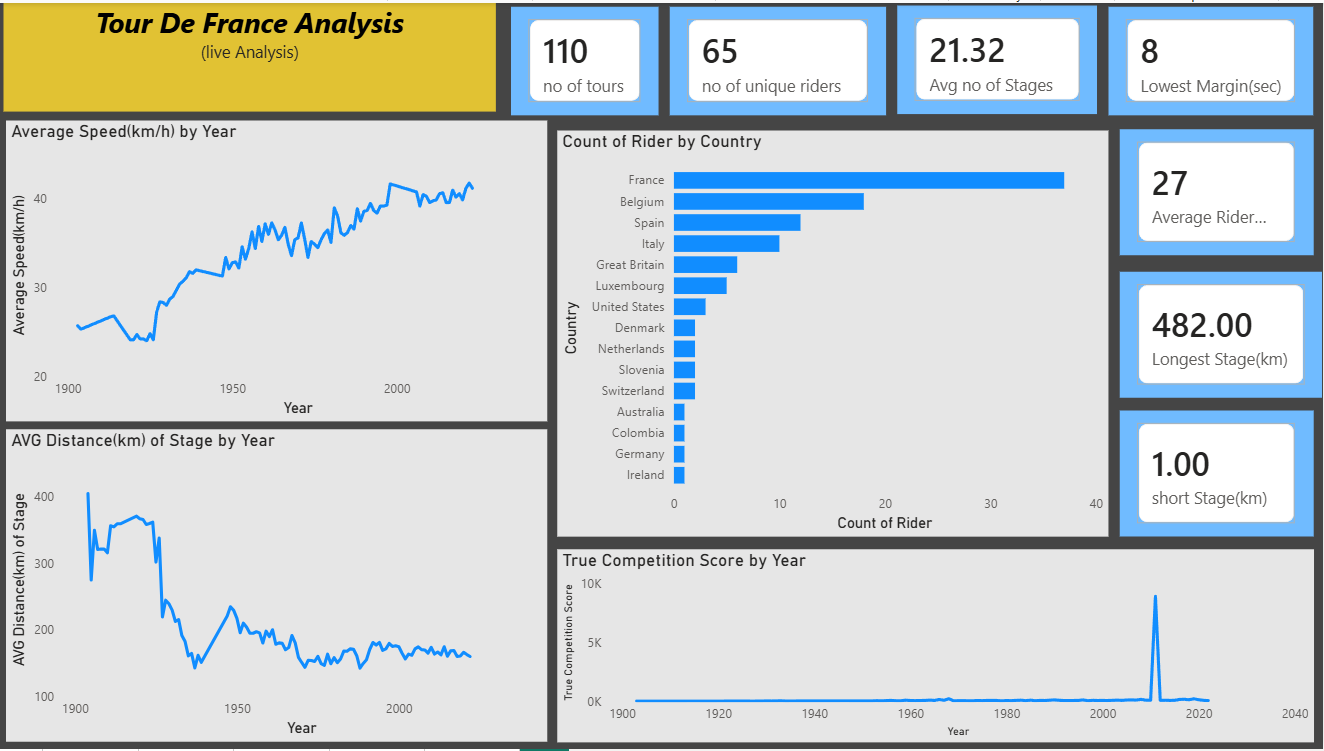

This screenshot's page, from the dashboard's own definition file:
{"tool":"powerbi","page":{"name":"Page 1","canvas":[1280,720],"ordinal":0},"visuals":[{"type":"cardVisual","title":"No Of Tours","fields":{"Data":["CountNonNull(Cleaned_Tours.Year)"]},"box":[497.1,3.6,142.4,105],"z":0},{"type":"cardVisual","title":"NO Of Unique Riders","fields":{"Data":["Count(Cleaned_Winners.Rider)"]},"box":[650.3,3.6,208.7,105],"z":1000},{"type":"cardVisual","title":"Avg Age","fields":{"Data":["Cleaned_Winners.Average Rider Age"]},"box":[1084.6,121.9,187,121.9],"z":2000},{"type":"cardVisual","title":"Average No Of Stages","fields":{"Data":["Avg(Cleaned_Tours.Stages)"]},"box":[869.8,2.4,193,105],"z":3000},{"type":"lineChart","fields":{"Category":["Cleaned_Winners.Year"],"Y":["Max(Cleaned_Winners.AvgSpeed(km/h))"]},"box":[9.7,113.4,522.4,290.8],"z":4000},{"type":"lineChart","fields":{"Y":["Avg(Cleaned_Stages.Distance(km))"],"Category":["Cleaned_Stages.Year"]},"box":[9.7,411.4,522.4,301.6],"z":5000},{"type":"barChart","fields":{"Category":["Cleaned_Winners.Country"],"Y":["CountNonNull(Cleaned_Winners.Rider)"]},"box":[541.7,123.1,532,392.1],"z":6000},{"type":"lineChart","fields":{"Y":["Cleaned_Finishers.Competition Score (Per KM)"],"Category":["Cleaned_Finishers.Year"]},"box":[542,526.9,730,186.6],"z":7000},{"type":"cardVisual","fields":{"Data":["Cleaned_Stages.Longest Stage Name"]},"box":[1084.6,259.4,195.4,121.9],"z":8000},{"type":"cardVisual","fields":{"Data":["Cleaned_Stages.Shortest Stage Distance"]},"box":[1084.6,393.3,187,121.9],"z":9000},{"type":"cardVisual","fields":{"Data":["Min(Cleaned_Winners.Margin)"]},"box":[1073.7,3.6,197.9,105],"z":10000},{"type":"textbox","box":[7.2,0,475.3,105],"z":11000}]}

Visuals, with their boxes in screenshot pixels (x1, y1, x2, y2), scaled from the page's 1280x720 canvas onto the 1324x751 screenshot:
"No Of Tours" cardVisual: {"x1": 514, "y1": 4, "x2": 661, "y2": 113}
"NO Of Unique Riders" cardVisual: {"x1": 673, "y1": 4, "x2": 889, "y2": 113}
"Avg Age" cardVisual: {"x1": 1122, "y1": 127, "x2": 1315, "y2": 254}
"Average No Of Stages" cardVisual: {"x1": 900, "y1": 3, "x2": 1099, "y2": 112}
lineChart - Cleaned_Winners.Year x Max(Cleaned_Winners.AvgSpeed(km/h)): {"x1": 10, "y1": 118, "x2": 550, "y2": 422}
lineChart - Avg(Cleaned_Stages.Distance(km)) x Cleaned_Stages.Year: {"x1": 10, "y1": 429, "x2": 550, "y2": 744}
barChart - Cleaned_Winners.Country x CountNonNull(Cleaned_Winners.Rider): {"x1": 560, "y1": 128, "x2": 1111, "y2": 537}
lineChart - Cleaned_Finishers.Competition Score (Per KM) x Cleaned_Finishers.Year: {"x1": 561, "y1": 550, "x2": 1316, "y2": 744}
cardVisual - Cleaned_Stages.Longest Stage Name: {"x1": 1122, "y1": 271, "x2": 1323, "y2": 398}
cardVisual - Cleaned_Stages.Shortest Stage Distance: {"x1": 1122, "y1": 410, "x2": 1315, "y2": 537}
cardVisual - Min(Cleaned_Winners.Margin): {"x1": 1111, "y1": 4, "x2": 1315, "y2": 113}
textbox: {"x1": 7, "y1": 0, "x2": 499, "y2": 110}
